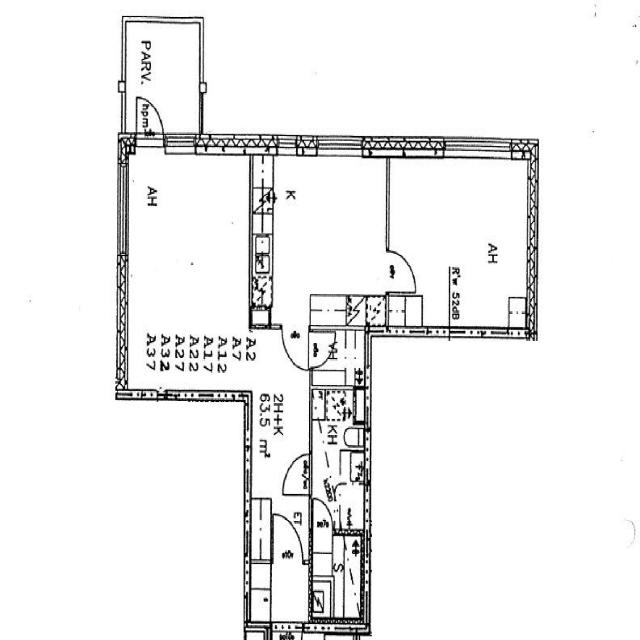door: (280, 450, 312, 498), (271, 511, 303, 558), (387, 246, 418, 294), (136, 95, 165, 141), (280, 325, 309, 370), (308, 329, 336, 368), (311, 497, 334, 531)
window: (443, 136, 515, 166), (112, 158, 133, 256), (315, 132, 365, 160), (163, 129, 198, 159), (275, 132, 299, 156)
zone: (123, 148, 254, 370), (390, 156, 533, 332), (252, 152, 388, 318), (127, 21, 202, 138), (310, 384, 365, 534), (310, 534, 366, 622), (308, 327, 365, 382), (387, 292, 425, 334)
